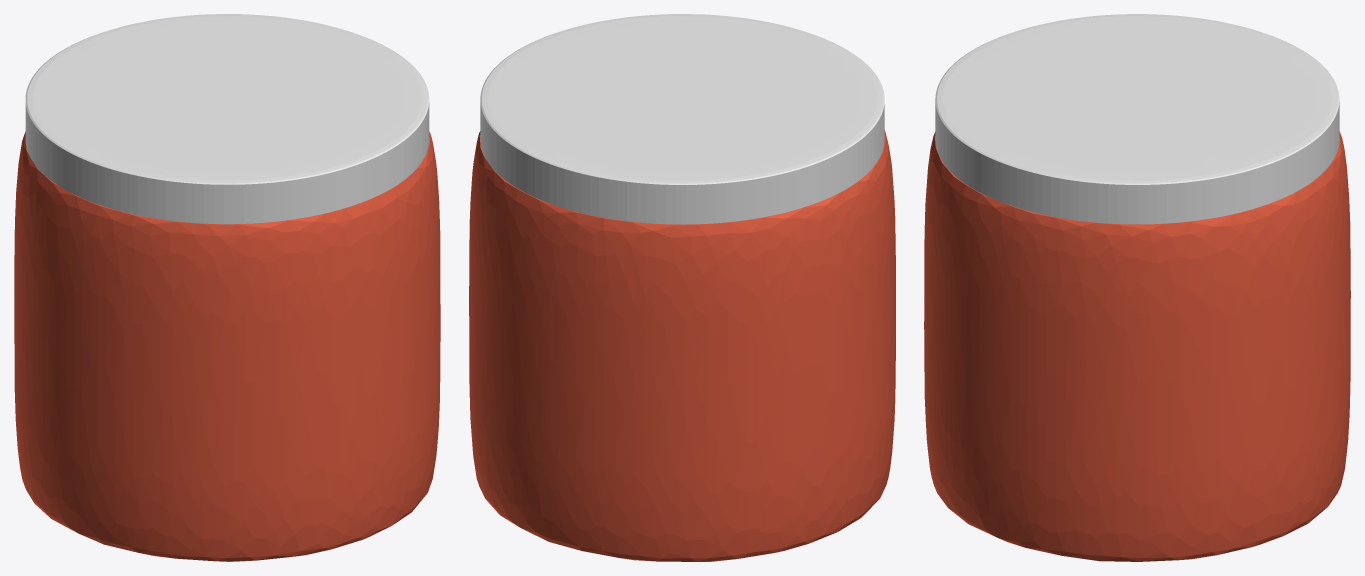
File: podium_new.fbx
3 views of the same model, side by side, from view 1: azimuth 30°, elevation 25°; view 2: azimuth 150°, elevation 25°; view 3: azimuth 270°, elevation 25° (orthographic).
Parts seen in each view (by area): view 1: podium_bottom, podium_top; view 2: podium_bottom, podium_top; view 3: podium_bottom, podium_top.
Part boxes in pixels (left/top/right/bottom): podium_bottom: left=14, top=131, right=440, bottom=561; podium_top: left=25, top=14, right=429, bottom=224; podium_bottom: left=469, top=130, right=895, bottom=561; podium_top: left=480, top=14, right=884, bottom=224; podium_bottom: left=924, top=131, right=1350, bottom=561; podium_top: left=935, top=14, right=1339, bottom=224.
Size of the model in its own units: 205 by 204 by 205.
